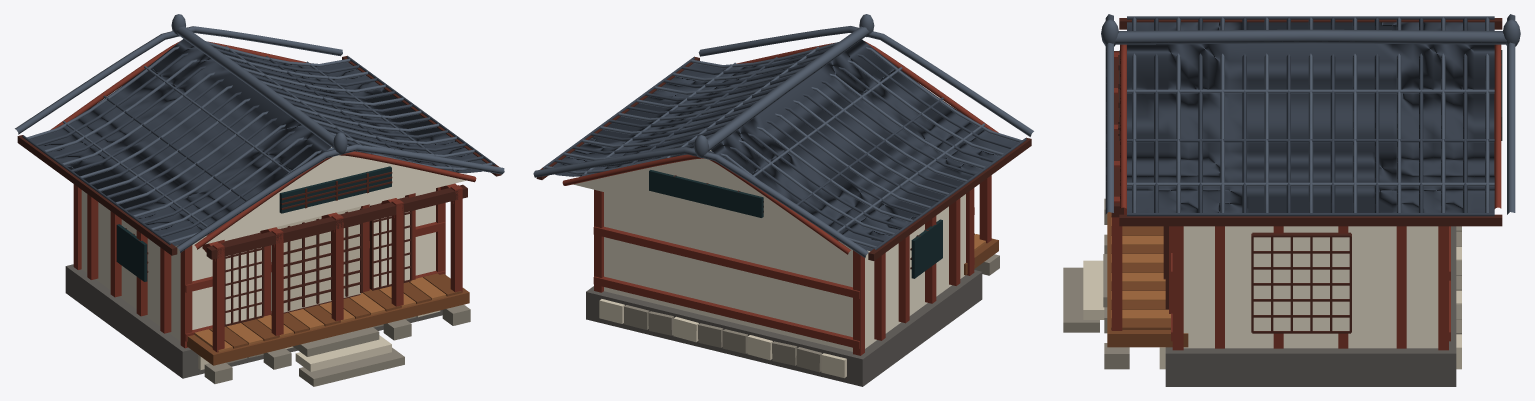
File: japanese-old-house.glb
The picture shows the model from 3 angles, left to right: view 1: azimuth 30°, elevation 25°; view 2: azimuth 150°, elevation 25°; view 3: azimuth 270°, elevation 25°; orthographic projection. The views are drawn at different scales.
Parts seen in each view (by area): view 1: japanese-old-house-jp-house-slate-roof-merged, japanese-old-house-jp-house-slate-roof-highlight-merged, japanese-old-house-jp-timber-merged, japanese-old-house-jp-plaster-merged, japanese-old-house-jp-dark-timber-merged, japanese-old-house-jp-bridge-wood-merged, japanese-old-house-jp-plaster-shadow-merged, japanese-old-house-jp-dark-stone-merged, japanese-old-house-jp-stone-merged, japanese-old-house-jp-window-dark-merged, japanese-old-house-jp-bridge-highlight-merged; view 2: japanese-old-house-jp-house-slate-roof-merged, japanese-old-house-jp-plaster-merged, japanese-old-house-jp-house-slate-roof-highlight-merged, japanese-old-house-jp-timber-merged, japanese-old-house-jp-dark-stone-merged, japanese-old-house-jp-window-dark-merged, japanese-old-house-jp-stone-merged, japanese-old-house-jp-dark-timber-merged, japanese-old-house-jp-plaster-shadow-merged, japanese-old-house-jp-bridge-wood-merged; view 3: japanese-old-house-jp-house-slate-roof-merged, japanese-old-house-jp-plaster-merged, japanese-old-house-jp-house-slate-roof-highlight-merged, japanese-old-house-jp-dark-stone-merged, japanese-old-house-jp-dark-timber-merged, japanese-old-house-jp-timber-merged, japanese-old-house-jp-bridge-wood-merged, japanese-old-house-jp-stone-merged, japanese-old-house-jp-bridge-highlight-merged, japanese-old-house-jp-plaster-shadow-merged.
Boxes of the visible parts, x1,y1,x2,y2 form: japanese-old-house-jp-house-slate-roof-merged: (22, 39, 495, 245); japanese-old-house-jp-house-slate-roof-highlight-merged: (15, 14, 504, 252); japanese-old-house-jp-timber-merged: (50, 41, 476, 352); japanese-old-house-jp-plaster-merged: (81, 147, 466, 341); japanese-old-house-jp-dark-timber-merged: (17, 55, 501, 326); japanese-old-house-jp-bridge-wood-merged: (187, 273, 469, 365); japanese-old-house-jp-plaster-shadow-merged: (198, 206, 440, 371); japanese-old-house-jp-dark-stone-merged: (65, 264, 442, 378); japanese-old-house-jp-stone-merged: (204, 304, 470, 386); japanese-old-house-jp-window-dark-merged: (116, 166, 391, 281); japanese-old-house-jp-bridge-highlight-merged: (194, 277, 446, 352); japanese-old-house-jp-house-slate-roof-merged: (542, 39, 1026, 251); japanese-old-house-jp-plaster-merged: (573, 150, 965, 351); japanese-old-house-jp-house-slate-roof-highlight-merged: (533, 14, 1033, 257); japanese-old-house-jp-timber-merged: (562, 41, 998, 355); japanese-old-house-jp-dark-stone-merged: (586, 270, 982, 386); japanese-old-house-jp-window-dark-merged: (649, 170, 942, 278); japanese-old-house-jp-stone-merged: (624, 254, 999, 372); japanese-old-house-jp-dark-timber-merged: (536, 56, 1031, 269); japanese-old-house-jp-plaster-shadow-merged: (599, 299, 846, 378); japanese-old-house-jp-bridge-wood-merged: (964, 233, 998, 275); japanese-old-house-jp-house-slate-roof-merged: (1127, 16, 1494, 216); japanese-old-house-jp-plaster-merged: (1183, 226, 1438, 348); japanese-old-house-jp-house-slate-roof-highlight-merged: (1101, 14, 1520, 214); japanese-old-house-jp-dark-stone-merged: (1165, 226, 1456, 386); japanese-old-house-jp-dark-timber-merged: (1111, 18, 1502, 333); japanese-old-house-jp-timber-merged: (1111, 44, 1501, 350); japanese-old-house-jp-bridge-wood-merged: (1107, 212, 1188, 347); japanese-old-house-jp-stone-merged: (1063, 198, 1461, 369); japanese-old-house-jp-bridge-highlight-merged: (1111, 217, 1170, 318); japanese-old-house-jp-plaster-shadow-merged: (1083, 246, 1461, 369).
Bounding box in the file's own units: 6.15 × 4.09 × 5.95.
